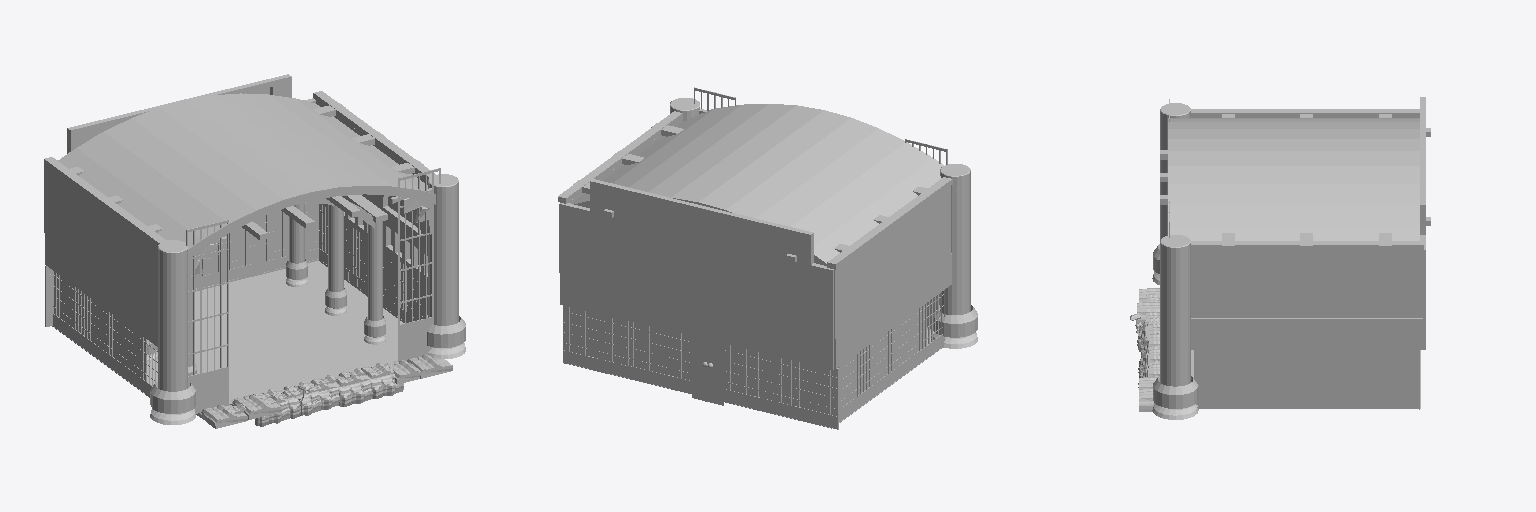
Rendered from MountainHouse2.obj.
3 renders of one model, left to right at view 1: azimuth 30°, elevation 25°; view 2: azimuth 150°, elevation 25°; view 3: azimuth 270°, elevation 25°, orthographic.
Visible parts, largest first — view 1: pCube56, pCube26, pPlane2 polySurface40, pCylinder1, pCylinder16, polySurface44, polySurface57, pPlane2 polySurface43, pCylinder11, pCylinder12, pPlane19, pCube35 (+28 smaller); view 2: pCube56, pPlane2 polySurface41, pPlane2 polySurface40, pPlane2 polySurface43, pCylinder1, pPlane21, pPlane22, pCube62, pPlane10, pPlane20, pPlane8, pPlane11 (+22 smaller); view 3: pCube56, pPlane2 polySurface42, pCylinder16, pPlane5, pPlane13, pPlane4, pPlane15, pPlane14, pPlane3, pCube35, pCube55, pPlane2 polySurface31 (+7 smaller).
Part boxes in pixels (x1,y1,x2,y2): pCube56: (58, 93, 435, 259); pCube26: (52, 261, 403, 404); pPlane2 polySurface40: (44, 165, 157, 315); pCylinder1: (150, 240, 195, 424); pCylinder16: (424, 174, 465, 358); polySurface44: (186, 220, 228, 413); polySurface57: (398, 168, 440, 361); pPlane2 polySurface43: (67, 74, 291, 153); pCylinder11: (364, 213, 385, 344); pCylinder12: (325, 205, 346, 315); pPlane19: (256, 210, 288, 275); pCube35: (44, 157, 166, 247); pCube56: (572, 104, 943, 265); pPlane2 polySurface41: (559, 203, 833, 338); pPlane2 polySurface40: (832, 186, 950, 338); pPlane2 polySurface43: (590, 179, 813, 265); pCylinder1: (933, 164, 977, 348); pPlane21: (790, 360, 838, 429); pPlane22: (757, 352, 792, 417); pCube62: (692, 336, 723, 405); pPlane10: (724, 344, 756, 409); pPlane20: (563, 306, 595, 370); pPlane8: (659, 328, 691, 393); pPlane11: (627, 320, 659, 385); pCube56: (1168, 118, 1419, 240); pPlane2 polySurface42: (1191, 250, 1419, 317); pCylinder16: (1152, 235, 1198, 419); pPlane5: (1268, 350, 1306, 408); pPlane13: (1344, 350, 1381, 408); pPlane4: (1231, 350, 1268, 408); pPlane15: (1381, 350, 1418, 408); pPlane14: (1307, 350, 1344, 408); pPlane3: (1194, 350, 1231, 408); pCube35: (1191, 109, 1419, 117); pCube55: (1191, 241, 1423, 249); pPlane2 polySurface31: (1378, 318, 1422, 349).
Size of the model in its own units: 174 by 112 by 146.